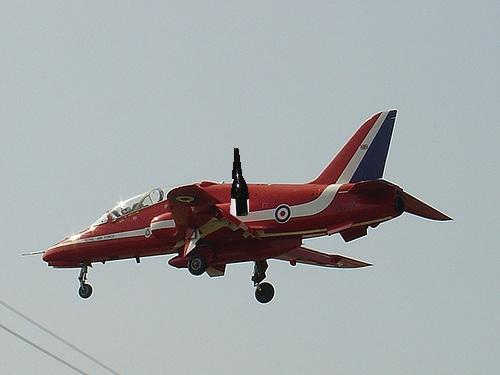tampered: (231, 149, 249, 216)
